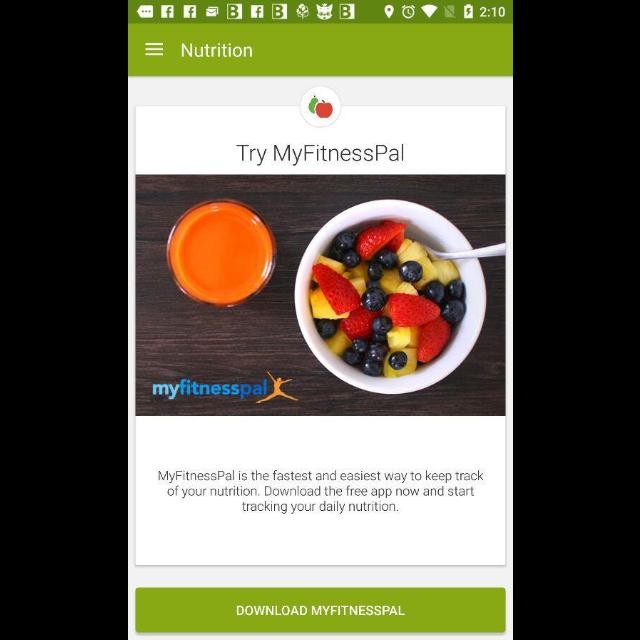icon: (144, 43, 164, 57)
image: (136, 176, 504, 417), (299, 86, 341, 128)
panel: (134, 105, 506, 567)
text: (158, 470, 482, 514), (235, 145, 402, 167), (182, 44, 252, 58)
textbutton: (134, 587, 506, 633)
toolbar: (128, 25, 512, 77)
uppertaskbar: (128, 1, 512, 23)
